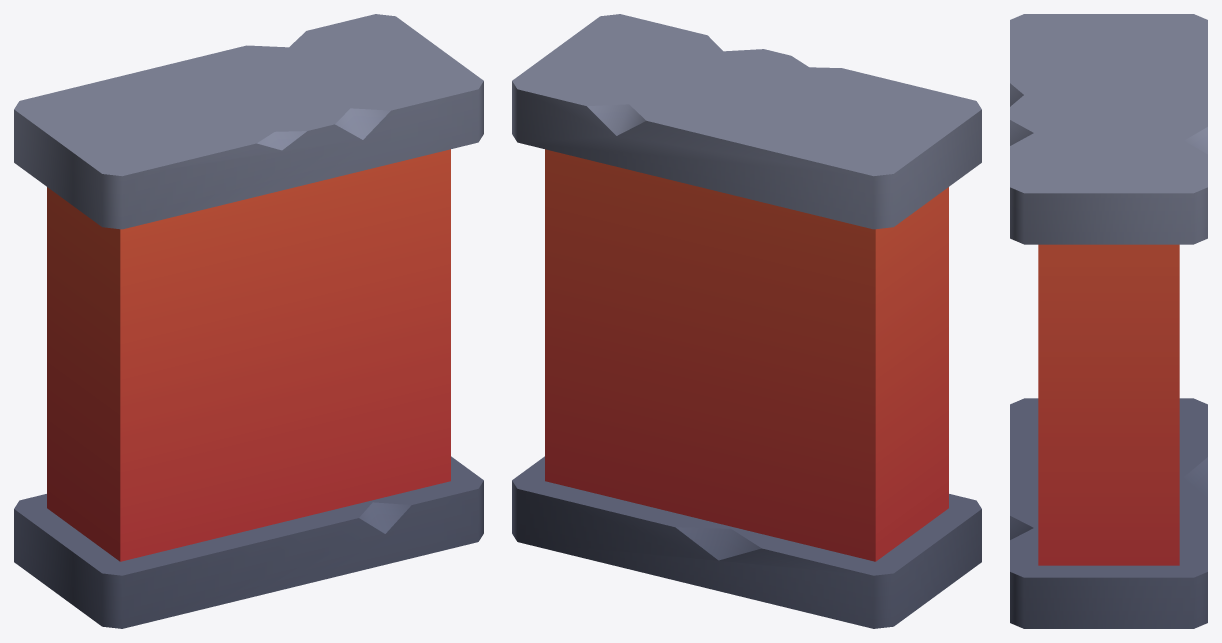
The model's file is wall-high-smooth.glb.
3 views of the same model, side by side, from view 1: azimuth 30°, elevation 25°; view 2: azimuth 150°, elevation 25°; view 3: azimuth 270°, elevation 25° (orthographic). The views are drawn at different scales.
Parts seen in each view (by area): view 1: wall-high; view 2: wall-high; view 3: wall-high.
Part boxes in pixels (bbox=[...]): wall-high: bbox=[14, 14, 483, 628]; wall-high: bbox=[512, 14, 981, 628]; wall-high: bbox=[1010, 14, 1207, 628].
Size of the model in its own units: 1.5 by 1.7 by 0.7.
Materials: 1 (1 with a texture image).
